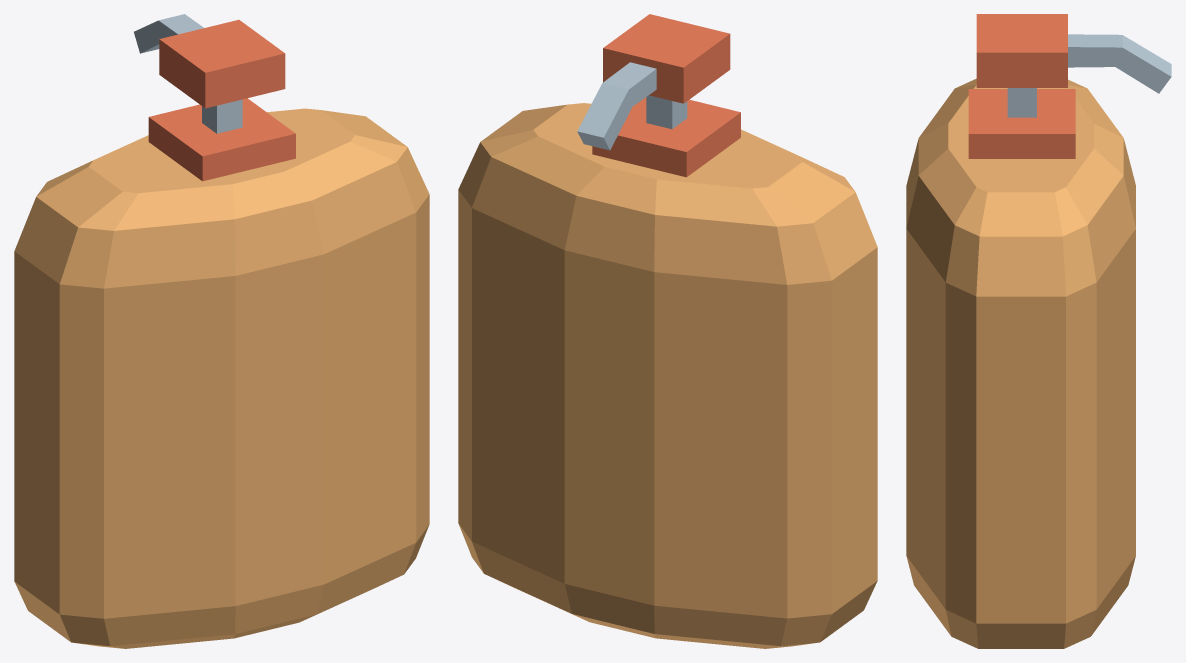
The model's file is Potion.FreshLotion.fbx.
3 views of the same model, side by side, from view 1: azimuth 30°, elevation 25°; view 2: azimuth 150°, elevation 25°; view 3: azimuth 270°, elevation 25° (orthographic).
Parts seen in each view (by area): view 1: Potion.FreshLotion; view 2: Potion.FreshLotion; view 3: Potion.FreshLotion.
Part boxes in pixels (left/top/right/bottom): Potion.FreshLotion: left=14, top=14, right=429, bottom=648; Potion.FreshLotion: left=458, top=14, right=877, bottom=648; Potion.FreshLotion: left=906, top=14, right=1171, bottom=648.
Size of the model in its own units: 64.56 by 91.91 by 40.49.
